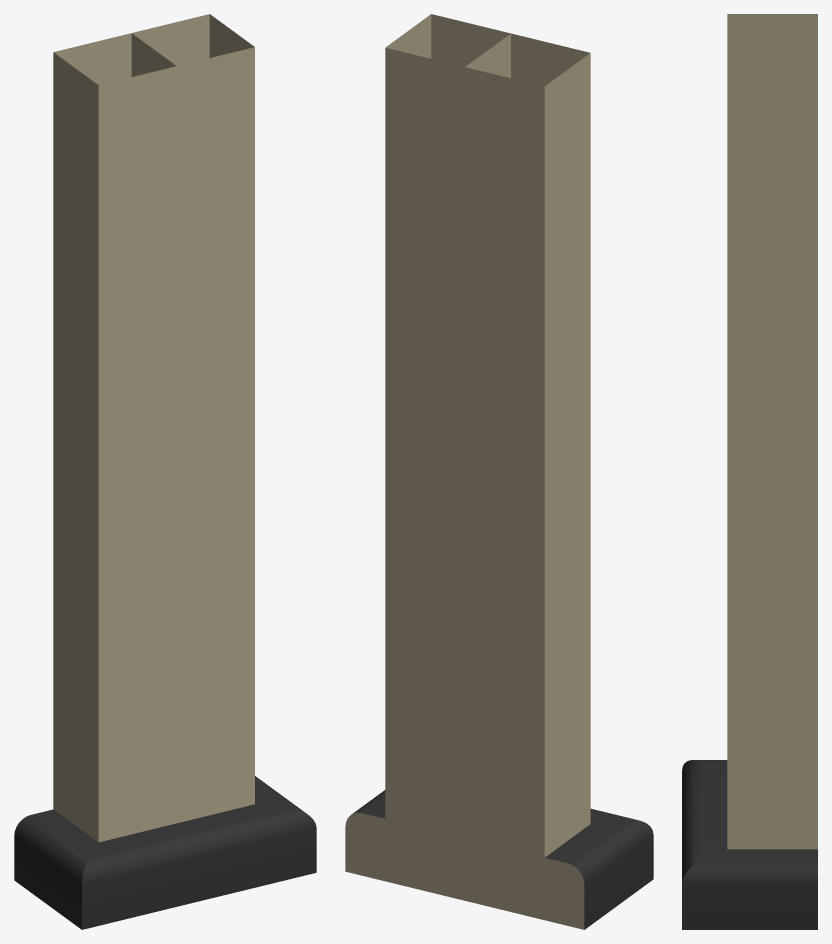
File: CornerWalls.fbx
3 views of the same model, side by side, from view 1: azimuth 30°, elevation 25°; view 2: azimuth 150°, elevation 25°; view 3: azimuth 270°, elevation 25° (orthographic).
Visible parts, largest first — view 1: WallCorner_Left, WallCornerBase_Left, WallCornerBase_Right, WallCorner_Right; view 2: WallCorner_Left, WallCorner_Right, WallCornerBase_Left, WallCornerBase_Right; view 3: WallCorner_Right, WallCornerBase_Right, WallCorner_Left, WallCornerBase_Left.
Part boxes in pixels (bbox=[...]): WallCorner_Left: bbox=[14, 33, 199, 929]; WallCornerBase_Left: bbox=[53, 34, 176, 842]; WallCornerBase_Right: bbox=[131, 15, 254, 823]; WallCorner_Right: bbox=[131, 14, 316, 901]; WallCorner_Left: bbox=[465, 33, 653, 929]; WallCorner_Right: bbox=[345, 14, 510, 900]; WallCornerBase_Left: bbox=[465, 34, 590, 919]; WallCornerBase_Right: bbox=[385, 15, 510, 890]; WallCorner_Right: bbox=[682, 90, 817, 929]; WallCornerBase_Right: bbox=[727, 90, 817, 848]; WallCorner_Left: bbox=[682, 14, 817, 826]; WallCornerBase_Left: bbox=[727, 14, 817, 90].
Size of the model in its own units: 120 by 400 by 60.04.
